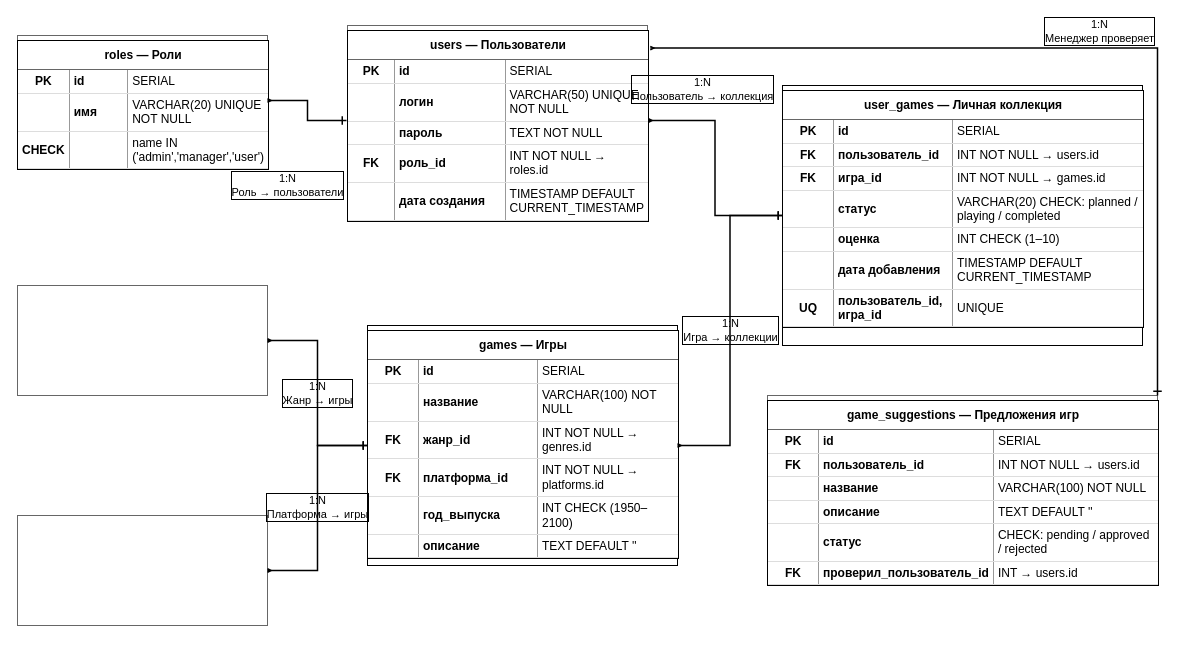
This 1184x645 diagram has some shape labels left out. Each missing label, with the centre of its shape:
"genres — Жанры PK id SERIAL название VARCHAR(40) UNIQUE NOT NULL" goes at (x=142, y=340).
"platforms — Платформы PK id SERIAL название VARCHAR(50) UNIQUE NOT NULL" goes at (x=142, y=570).
